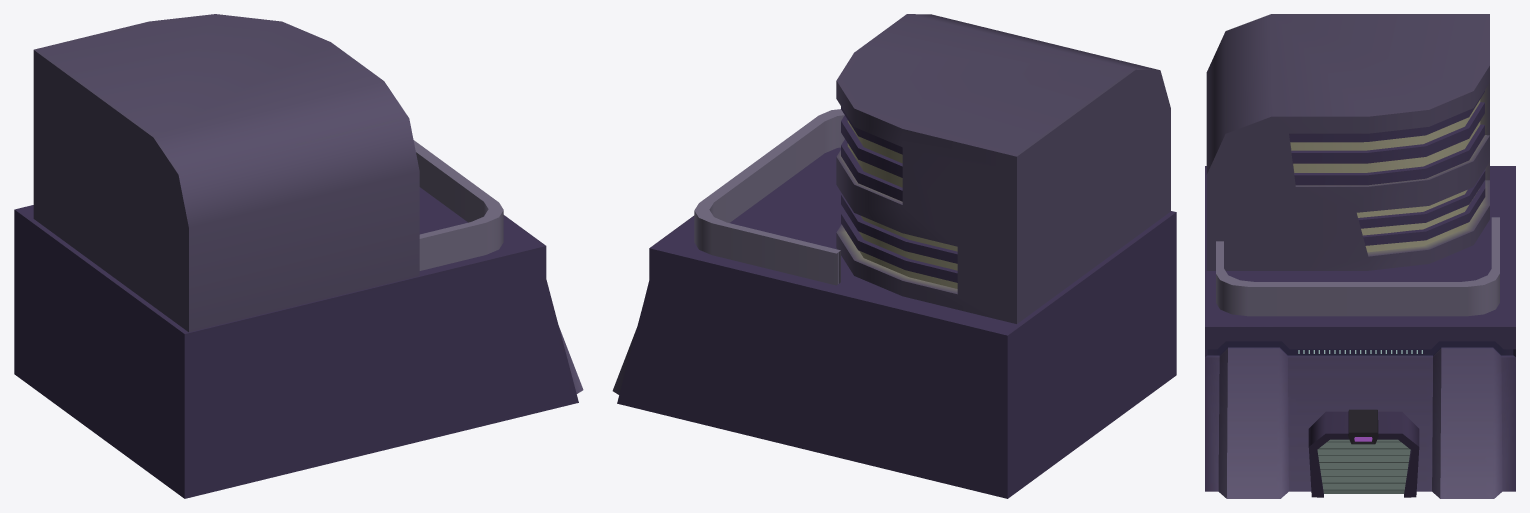
Rendered from West_House_04.fbx.
3 renders of one model, left to right at view 1: azimuth 30°, elevation 25°; view 2: azimuth 150°, elevation 25°; view 3: azimuth 270°, elevation 25°, orthographic. The views are drawn at different scales.
Parts seen in each view (by area): view 1: West_House_04; view 2: West_House_04; view 3: West_House_04.
Boxes of the visible parts, box(x1,y1,x2,y2) form: West_House_04: box(14, 14, 583, 498); West_House_04: box(612, 14, 1176, 498); West_House_04: box(1205, 14, 1515, 498).
Size of the model in its own units: 31.99 by 24.01 by 22.12.
